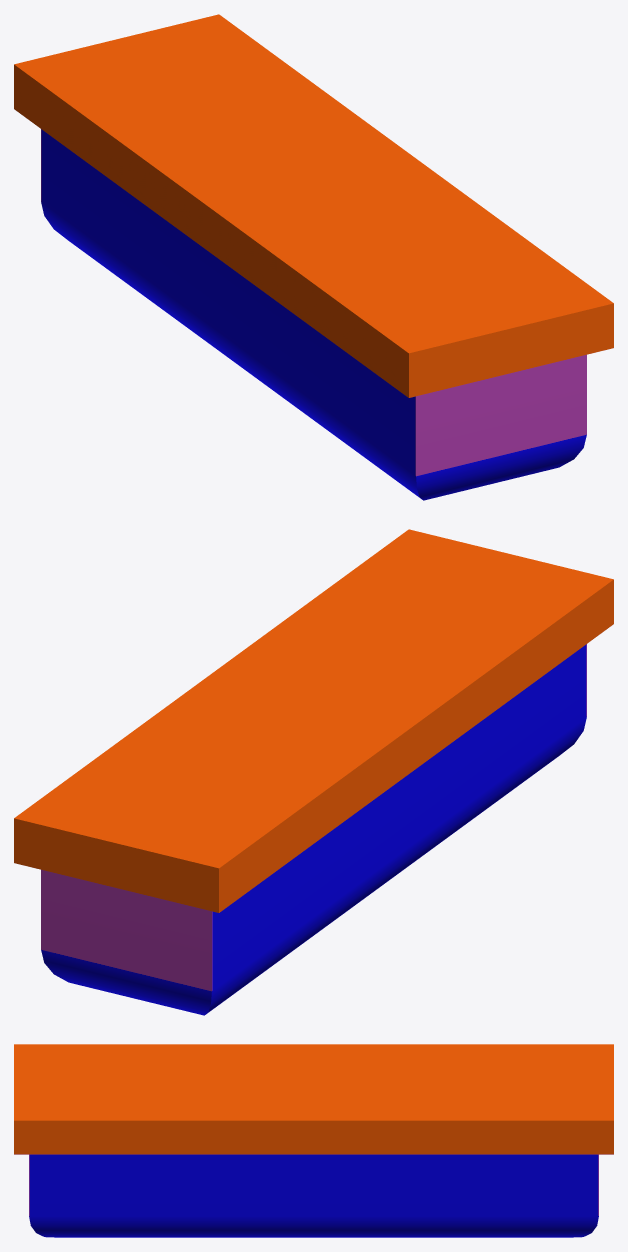
The model's file is Kokubannkeshi.fbx.
3 views of the same model, one above another, from view 1: azimuth 30°, elevation 25°; view 2: azimuth 150°, elevation 25°; view 3: azimuth 270°, elevation 25° (orthographic). The views are drawn at different scales.
Parts seen in each view (by area): view 1: pCube1; view 2: pCube1; view 3: pCube1.
Boxes of the visible parts, left/top/right/bottom form: pCube1: left=14, top=14, right=613, bottom=500; pCube1: left=14, top=529, right=613, bottom=1015; pCube1: left=14, top=1044, right=613, bottom=1237.
Bounding box in the file's own units: 1.2 × 1 × 4.
1 material, 1 textured.
